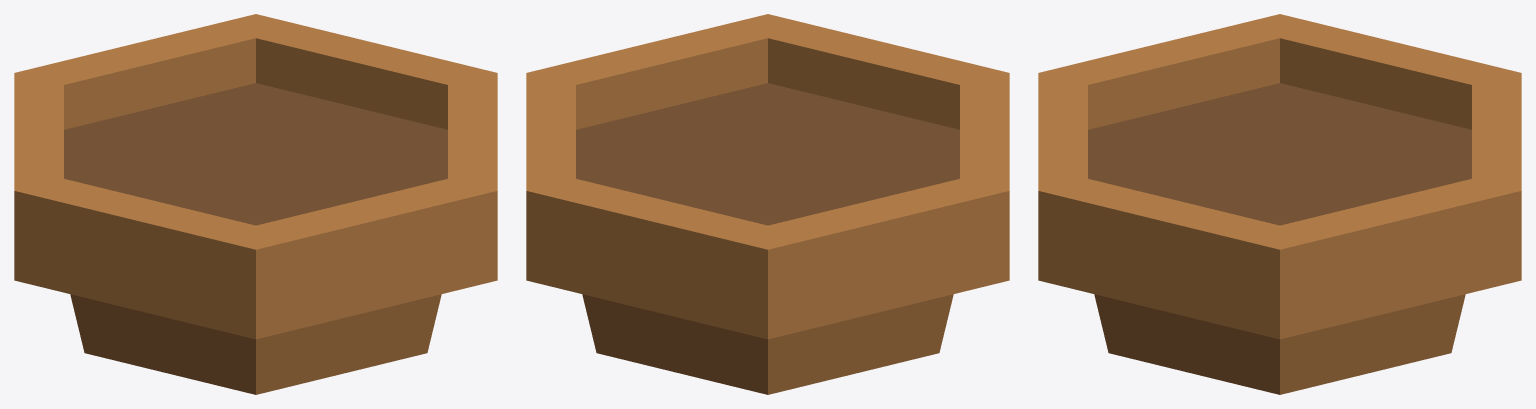
Rendered from pot_large.glb.
The picture shows the model from 3 angles, left to right: view 1: azimuth 30°, elevation 25°; view 2: azimuth 150°, elevation 25°; view 3: azimuth 270°, elevation 25°; orthographic projection.
Visible parts, largest first — view 1: pot_large; view 2: pot_large; view 3: pot_large.
Part boxes in pixels (x1,y1,x2,y2): pot_large: [14, 14, 497, 394]; pot_large: [526, 14, 1009, 394]; pot_large: [1038, 14, 1521, 394].
Size of the model in its own units: 0.5636 by 0.2 by 0.4881.
